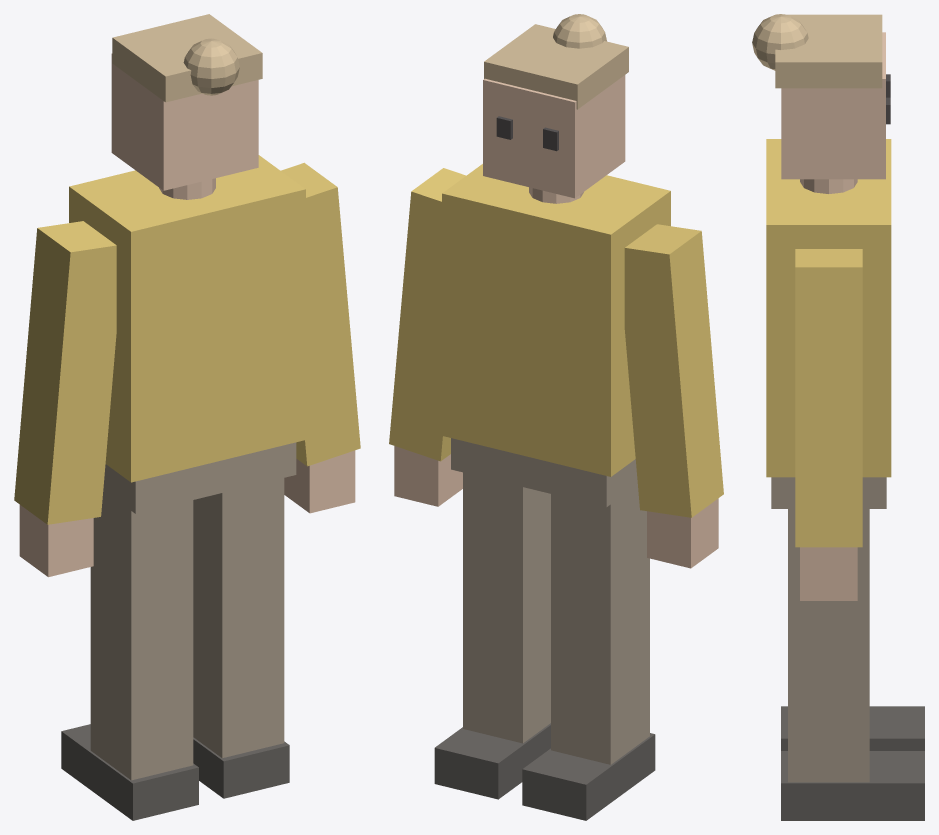
File: civ_05.glb
3 views of the same model, side by side, from view 1: azimuth 30°, elevation 25°; view 2: azimuth 150°, elevation 25°; view 3: azimuth 270°, elevation 25° (orthographic). The views are drawn at different scales.
Visible parts, largest first — view 1: civ_05_torso, civ_05_leg_L, civ_05_arm_L, civ_05_leg_R, civ_05_head, civ_05_arm_R, civ_05_hair, civ_05_pelvis, civ_05_shoe_L, civ_05_shoe_R, civ_05_hand_L, civ_05_hand_R (+2 smaller); view 2: civ_05_torso, civ_05_leg_L, civ_05_arm_L, civ_05_leg_R, civ_05_head, civ_05_arm_R, civ_05_hair, civ_05_shoe_L, civ_05_pelvis, civ_05_shoe_R, civ_05_hand_L, civ_05_hand_R (+1 smaller); view 3: civ_05_torso, civ_05_arm_R, civ_05_leg_R, civ_05_head, civ_05_shoe_R, civ_05_hair, civ_05_hand_R, civ_05_shoe_L, civ_05_bun, civ_05_pelvis, civ_05_neck.
Boxes of the visible parts, x1,y1,x2,y2 form: civ_05_torso: (69, 155, 305, 482); civ_05_leg_L: (90, 490, 193, 780); civ_05_arm_L: (14, 221, 116, 524); civ_05_leg_R: (193, 478, 284, 758); civ_05_head: (111, 53, 258, 190); civ_05_arm_R: (281, 162, 360, 466); civ_05_hair: (112, 14, 262, 102); civ_05_pelvis: (103, 442, 296, 513); civ_05_shoe_L: (61, 724, 198, 820); civ_05_shoe_R: (193, 737, 289, 798); civ_05_hand_L: (19, 505, 93, 577); civ_05_hand_R: (284, 450, 355, 513); civ_05_torso: (442, 164, 670, 476); civ_05_leg_L: (551, 484, 649, 764); civ_05_arm_L: (624, 224, 723, 517); civ_05_leg_R: (463, 472, 550, 743); civ_05_head: (483, 75, 625, 198); civ_05_arm_R: (389, 168, 465, 461); civ_05_hair: (484, 24, 628, 109); civ_05_shoe_L: (522, 733, 655, 820); civ_05_pelvis: (451, 438, 637, 507); civ_05_shoe_R: (434, 723, 550, 799); civ_05_hand_L: (647, 498, 718, 568); civ_05_hand_R: (394, 446, 462, 506); civ_05_torso: (766, 139, 891, 477); civ_05_arm_R: (795, 249, 862, 547); civ_05_leg_R: (788, 509, 869, 782); civ_05_head: (781, 32, 885, 179); civ_05_shoe_R: (781, 751, 924, 820); civ_05_hair: (775, 14, 882, 88); civ_05_hand_R: (800, 547, 857, 600); civ_05_shoe_L: (781, 706, 924, 750); civ_05_bun: (752, 14, 808, 70); civ_05_pelvis: (771, 477, 886, 508); civ_05_neck: (800, 179, 857, 193).
Bounding box in the file's own units: 0.7886 × 1.83 × 0.3744.
